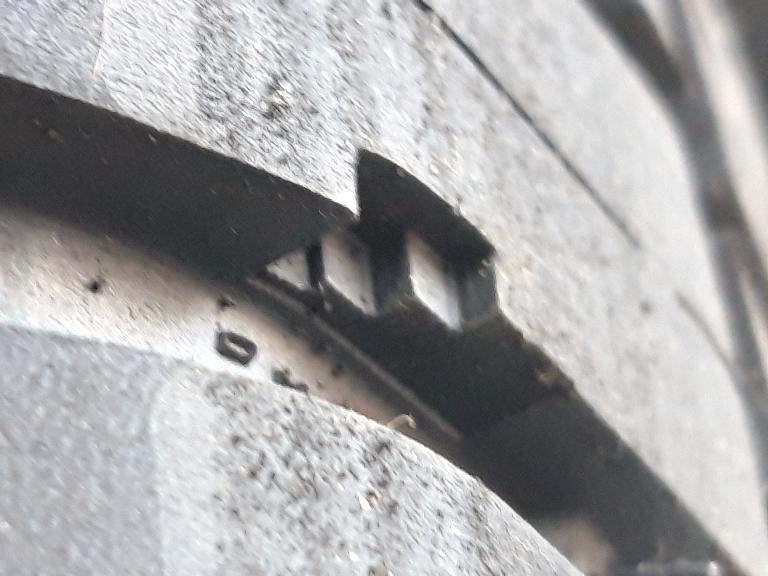temoin:75: (228, 137, 550, 407)
